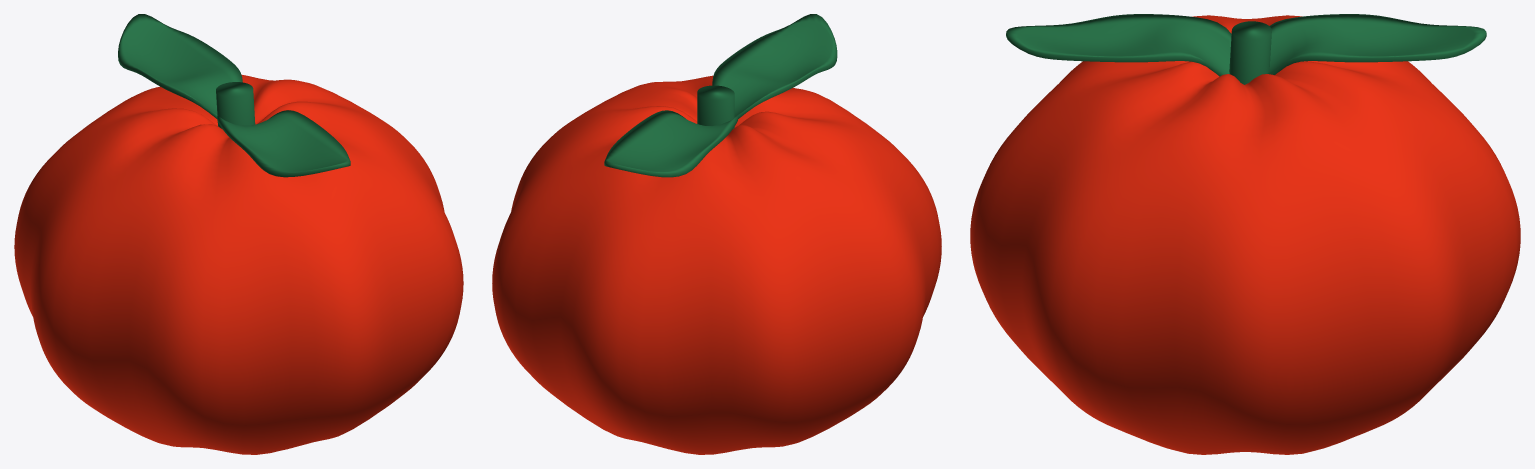
Rendered from tomato.fbx.
The picture shows the model from 3 angles, left to right: view 1: azimuth 30°, elevation 25°; view 2: azimuth 150°, elevation 25°; view 3: azimuth 270°, elevation 25°; orthographic projection. The views are drawn at different scales.
Visible parts, largest first — view 1: Sphere, Plane, Cylinder; view 2: Sphere, Plane, Cylinder; view 3: Sphere, Plane, Cylinder.
Part boxes in pixels (x1,y1,x2,y2): Sphere: [14, 74, 463, 454]; Plane: [118, 14, 350, 177]; Cylinder: [216, 82, 255, 128]; Sphere: [492, 75, 941, 454]; Plane: [604, 14, 837, 177]; Cylinder: [697, 85, 734, 128]; Sphere: [970, 15, 1520, 454]; Plane: [1006, 14, 1486, 76]; Cylinder: [1229, 21, 1271, 84].
Size of the model in its own units: 224 by 174 by 230.
